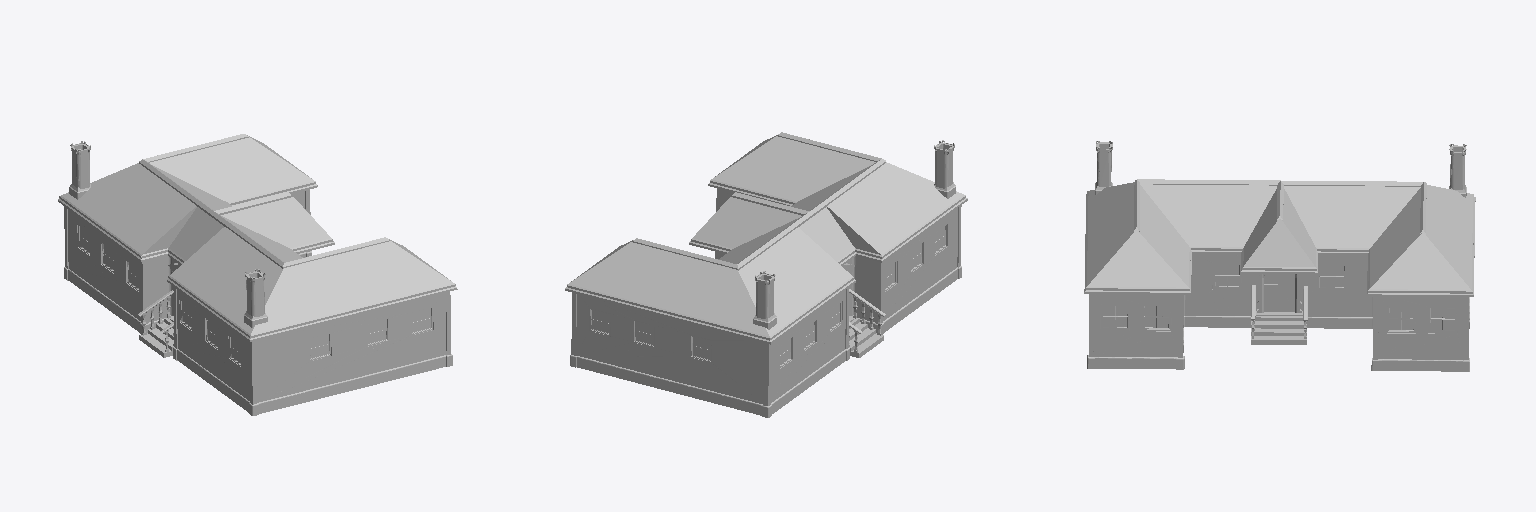
File: house2.obj
The picture shows the model from 3 angles: view 1: azimuth 30°, elevation 25°; view 2: azimuth 150°, elevation 25°; view 3: azimuth 270°, elevation 25°; orthographic projection.
Size of the model in its own units: 0.08 by 0.0494 by 0.1275.